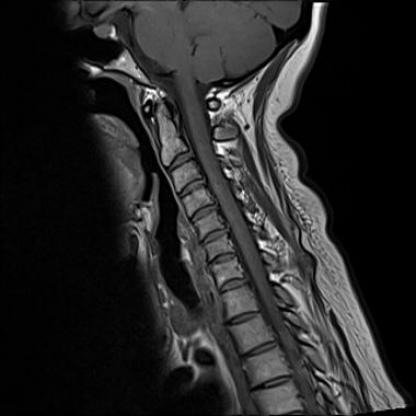Disc Bulgerotation: (199, 228, 229, 244), (208, 251, 238, 265), (188, 206, 219, 219)
